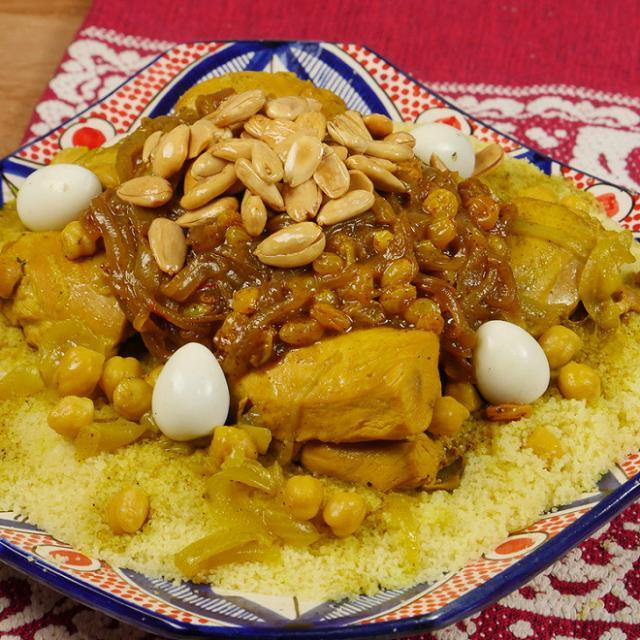Couscous: (0, 79, 639, 580)
